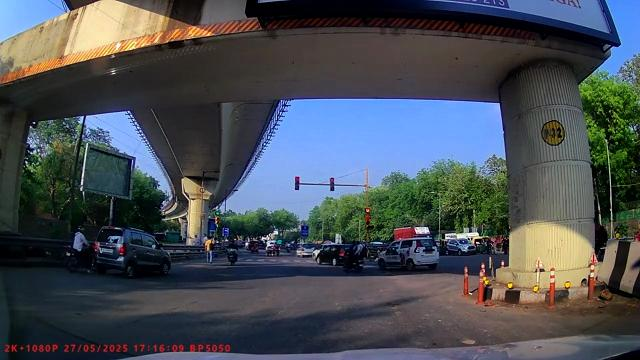motorcycle_with_helmet: (65, 225, 96, 274)
passenger_with_helmet: (340, 239, 368, 273)
